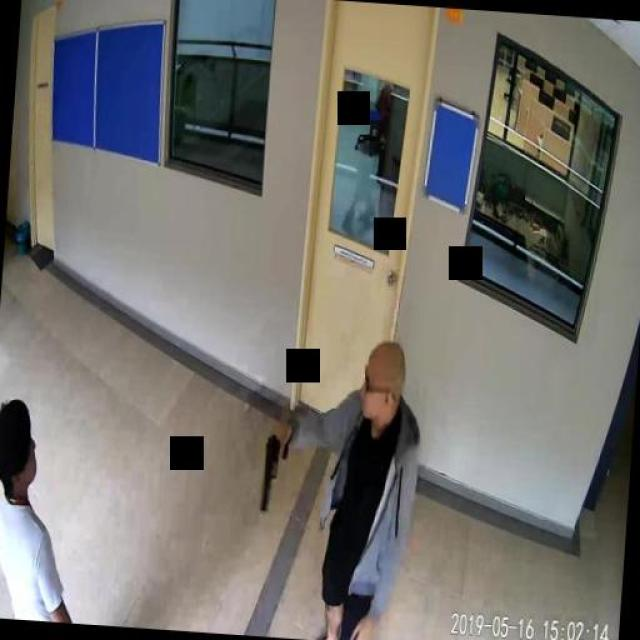gun: (258, 428, 288, 512)
